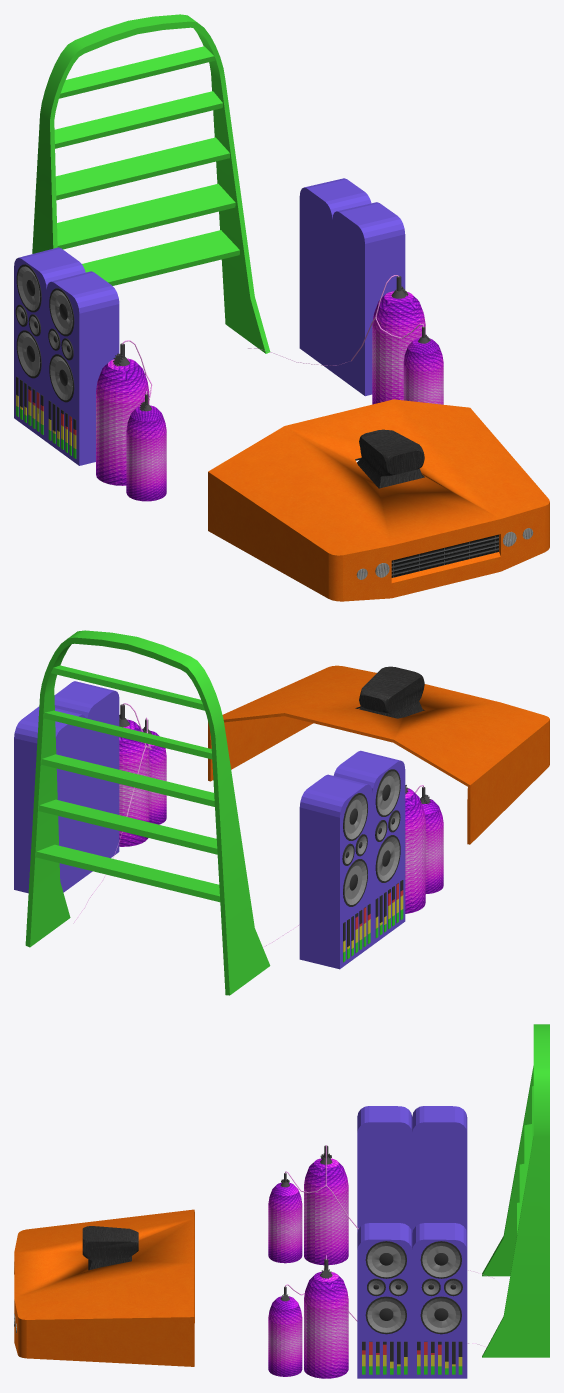
Rendered from KitKartCars.fbx.
3 views of the same model, one above another, from view 1: azimuth 30°, elevation 25°; view 2: azimuth 150°, elevation 25°; view 3: azimuth 270°, elevation 25° (orthographic). The views are drawn at different scales.
Visible parts, largest first — view 1: KitCars; view 2: KitCars; view 3: KitCars.
Boxes of the visible parts, x1,y1,x2,y2 form: KitCars: (14, 14, 549, 601); KitCars: (14, 630, 549, 995); KitCars: (14, 1024, 549, 1378).
Bounding box in the file's own units: 120 × 116 × 203.
Materials: 14 (5 with a texture image).
